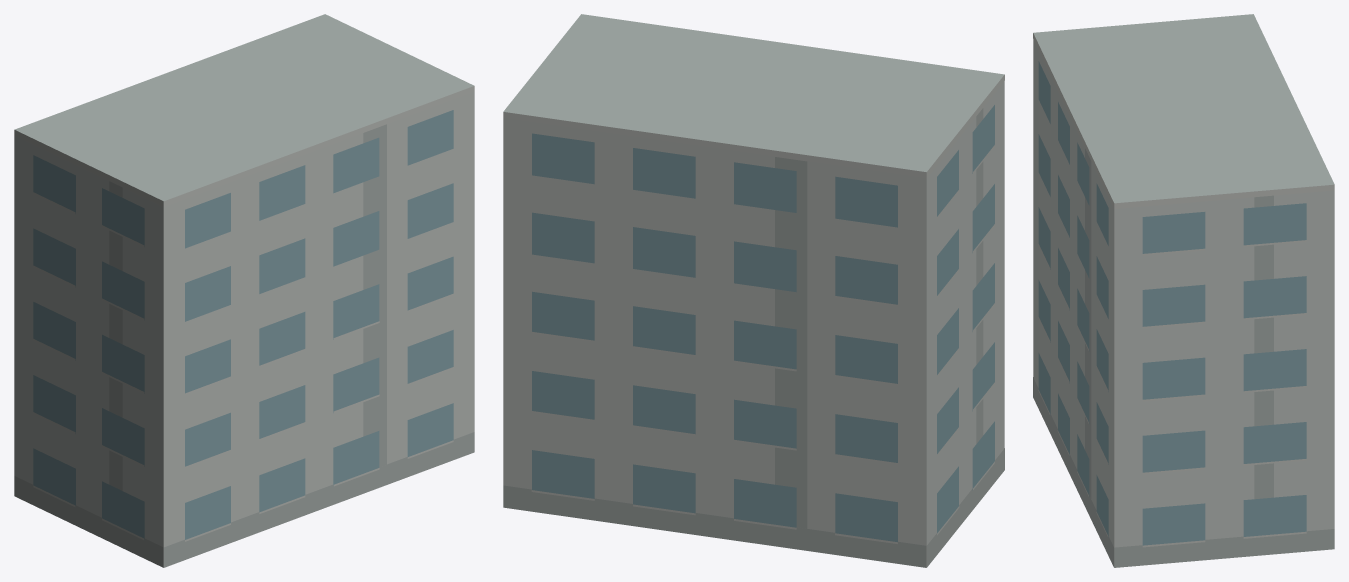
Rendered from residential-4f224914-7ba5-44ca-87fa-83fe308cfb60.glb.
3 renders of one model, left to right at view 1: azimuth 30°, elevation 25°; view 2: azimuth 150°, elevation 25°; view 3: azimuth 270°, elevation 25°, orthographic. The views are drawn at different scales.
Parts seen in each view (by area): view 1: residential-4f224914-7ba5-44ca-87fa-83fe308cfb60.tmp; view 2: residential-4f224914-7ba5-44ca-87fa-83fe308cfb60.tmp; view 3: residential-4f224914-7ba5-44ca-87fa-83fe308cfb60.tmp.
Part boxes in pixels (bbox=[...]): residential-4f224914-7ba5-44ca-87fa-83fe308cfb60.tmp: bbox=[14, 14, 474, 567]; residential-4f224914-7ba5-44ca-87fa-83fe308cfb60.tmp: bbox=[503, 14, 1004, 567]; residential-4f224914-7ba5-44ca-87fa-83fe308cfb60.tmp: bbox=[1033, 14, 1334, 567].
Size of the model in its own units: 16.99 by 15.25 by 11.44.
